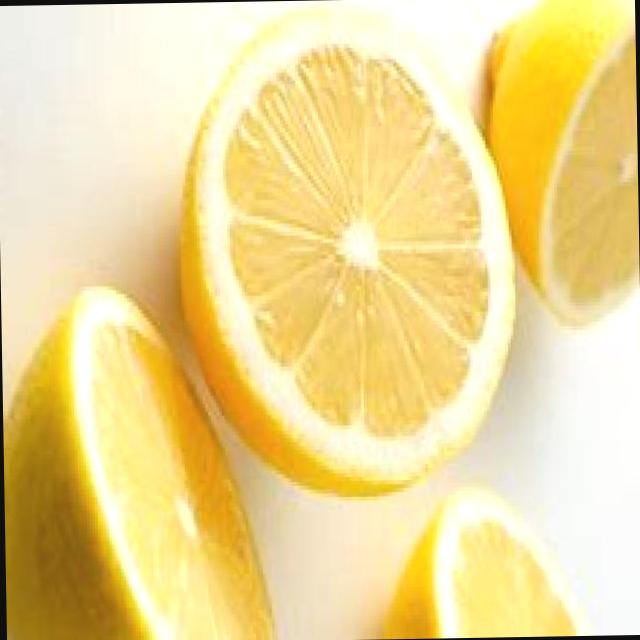lemon: (176, 8, 530, 507), (472, 0, 640, 329)
